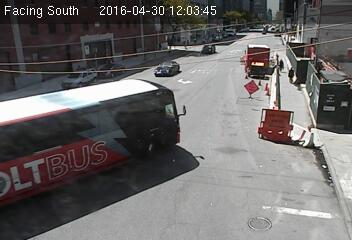neg: (233, 93, 254, 120), (96, 101, 113, 123)
pos: (285, 63, 298, 80), (274, 54, 287, 71)
